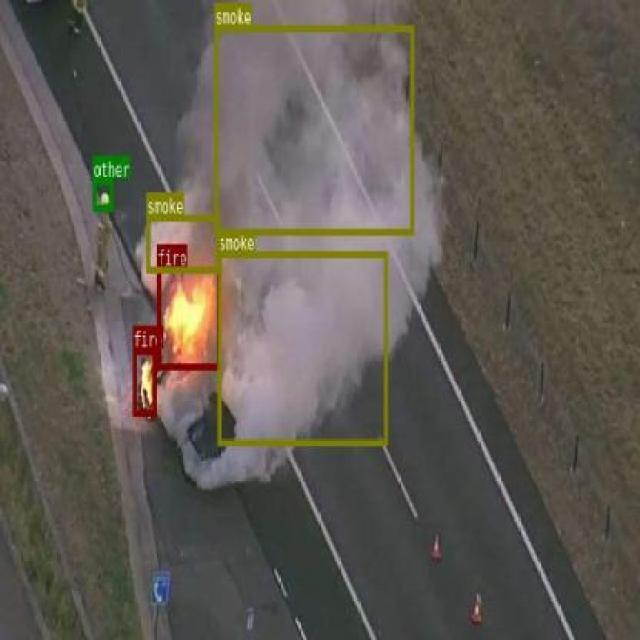Fire: (156, 266, 218, 368), (133, 348, 156, 416)
Smoke: (214, 23, 413, 235), (218, 250, 387, 444), (146, 214, 219, 272)
